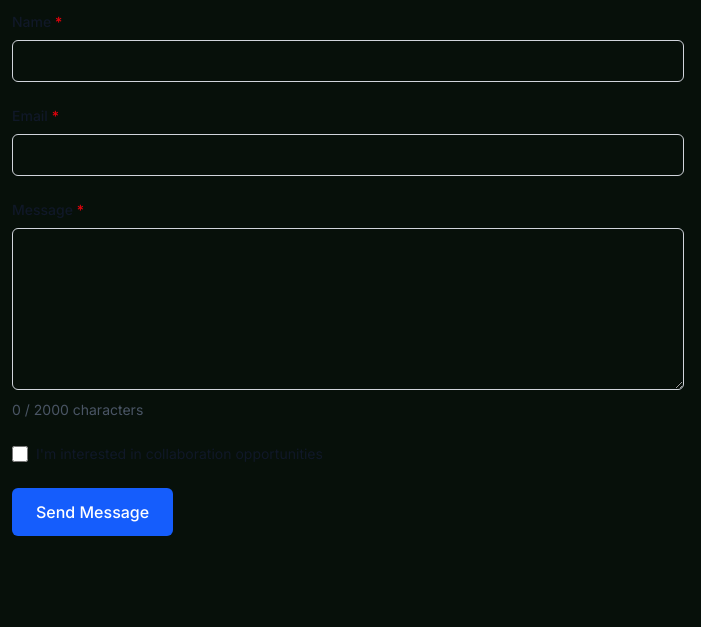
Test case: FeedbackForm › shows validation error for empty name
Click the button "Send Message". click: (93, 512)
box: left=12, top=488, right=173, bottom=536
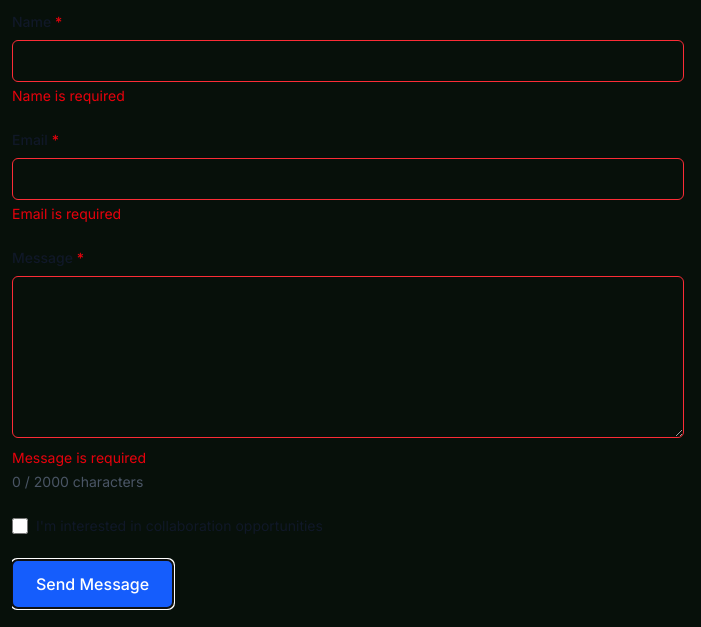
Check: the text "Name is required" is shown, box left=12, top=87, right=125, bottom=104
